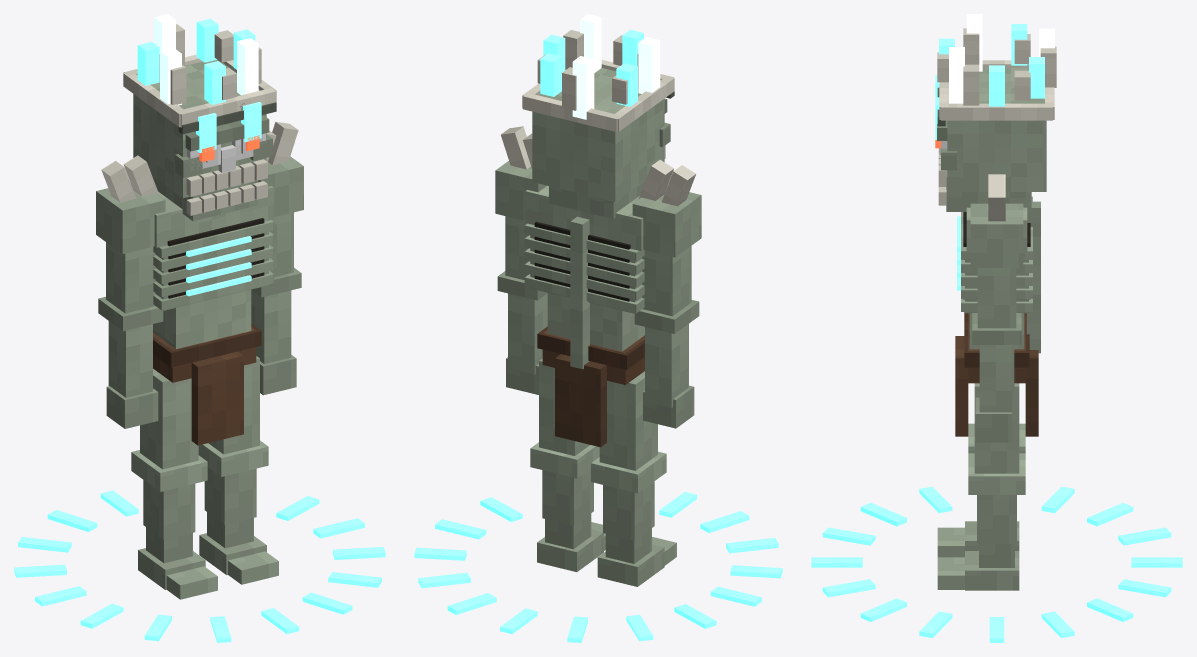
Rendered from undead_base_v3_evo3.glb.
The picture shows the model from 3 angles, left to right: view 1: azimuth 30°, elevation 25°; view 2: azimuth 150°, elevation 25°; view 3: azimuth 270°, elevation 25°; orthographic projection.
Parts seen in each view (by area): view 1: Head, Torso, ArmR, LegR, LegL, ArmL, Root; view 2: Torso, Head, ArmR, LegR, LegL, ArmL, Root; view 3: Head, ArmL, LegL, Torso, Root, LegR.
Boxes of the visible parts, x1,y1,x2,y2 form: Head: (123, 14, 276, 220); Torso: (153, 186, 274, 445); ArmR: (96, 155, 165, 428); LegR: (131, 369, 217, 599); LegL: (198, 356, 278, 584); ArmL: (251, 121, 303, 395); Root: (14, 490, 385, 642); Torso: (524, 185, 644, 447); Head: (522, 14, 674, 218); ArmR: (632, 160, 701, 428); LegR: (591, 371, 676, 586); LegL: (530, 358, 605, 571); ArmL: (495, 126, 547, 394); Root: (414, 492, 782, 642); Head: (935, 14, 1056, 211); ArmL: (970, 174, 1023, 442); LegL: (937, 383, 1025, 590); Torso: (955, 196, 1040, 436); Root: (811, 486, 1182, 642); LegR: (937, 423, 1025, 557).
Size of the model in its own units: 1.16 by 1.82 by 1.16.
24 materials, 24 textured.
